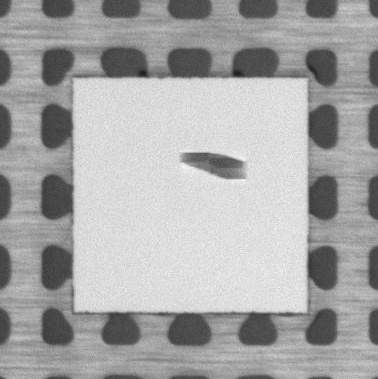DIE_INK: (177, 150, 248, 182)
